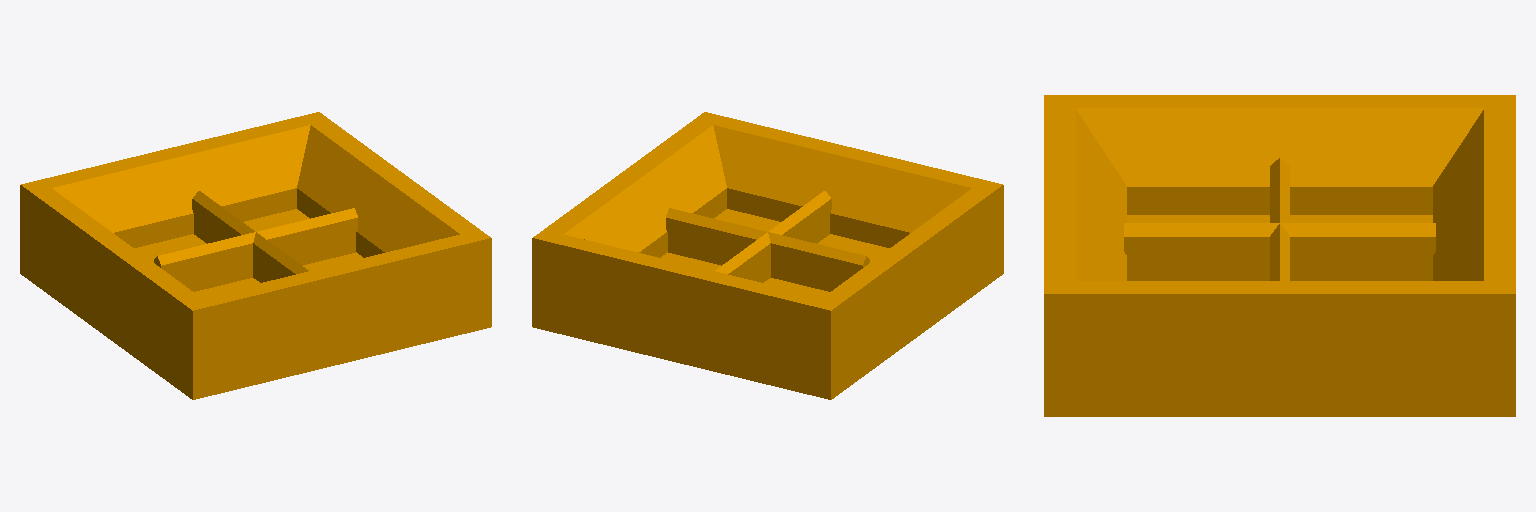
The robot description file, URDF, robot "isgboard":
<?xml version="1.0" ?>
<robot name="isgboard">
    <link name="base_link">
        <inertial>
            <origin xyz="0 0 0.013" rpy="0 0 0" />
            <mass value="1.5" />
            <inertia ixx="0.00111508" ixy="0" ixz="0" iyy="0.00111508" iyz="0" izz="0.00206116" />
        </inertial>
        <visual name="visual">
            <origin xyz="0 0 0" rpy="0 0 0" />
            <geometry>
                <mesh filename="meshes/visual.obj" scale="1 1 1" />
            </geometry>
        </visual>
        <collision name="plate">
            <origin xyz="0 0 0" rpy="0 0 0" />
            <geometry>
                <mesh filename="meshes/collision/plate.obj" scale="1 1 1" />
            </geometry>
        </collision>
        <collision name="wall_right">
            <origin xyz="0 0 0" rpy="0 0 0" />
            <geometry>
                <mesh filename="meshes/collision/wall_right.obj" scale="1 1 1" />
            </geometry>
        </collision>
        <collision name="wall_left">
            <origin xyz="0 0 0" rpy="0 0 0" />
            <geometry>
                <mesh filename="meshes/collision/wall_left.obj" scale="1 1 1" />
            </geometry>
        </collision>
        <collision name="wall_far">
            <origin xyz="0 0 0" rpy="0 0 0" />
            <geometry>
                <mesh filename="meshes/collision/wall_far.obj" scale="1 1 1" />
            </geometry>
        </collision>
        <collision name="wall_near">
            <origin xyz="0 0 0" rpy="0 0 0" />
            <geometry>
                <mesh filename="meshes/collision/wall_near.obj" scale="1 1 1" />
            </geometry>
        </collision>
        <collision name="divider_y">
            <origin xyz="0 0 0" rpy="0 0 0" />
            <geometry>
                <mesh filename="meshes/collision/divider_y.obj" scale="1 1 1" />
            </geometry>
        </collision>
        <collision name="divider_x">
            <origin xyz="0 0 0" rpy="0 0 0" />
            <geometry>
                <mesh filename="meshes/collision/divider_x.obj" scale="1 1 1" />
            </geometry>
        </collision>
    </link>
</robot>

--- Facts derived from the render (not from the file) ---
3 views of the same robot in one strip: view 1: azimuth 30°, elevation 25°; view 2: azimuth 150°, elevation 25°; view 3: azimuth 270°, elevation 25° (orthographic).
Robot: isgboard — 1 links, 0 joints (none); root link base_link; default pose: every joint at zero.
Visible links, largest first — view 1: base_link; view 2: base_link; view 3: base_link.
Link boxes in pixels (<box>): base_link: <box>20,112,491,399</box>; base_link: <box>532,112,1003,399</box>; base_link: <box>1044,95,1515,416</box>.
Size in the robot's own frame: 0.0908 by 0.0908 by 0.026 metres.
Meshes: 1 distinct files referenced, 1 mesh visuals loaded (1 OBJ).
